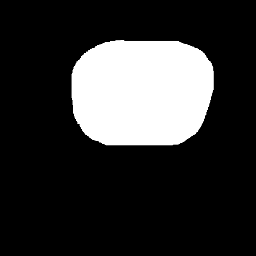mass: (80, 43, 212, 140)
